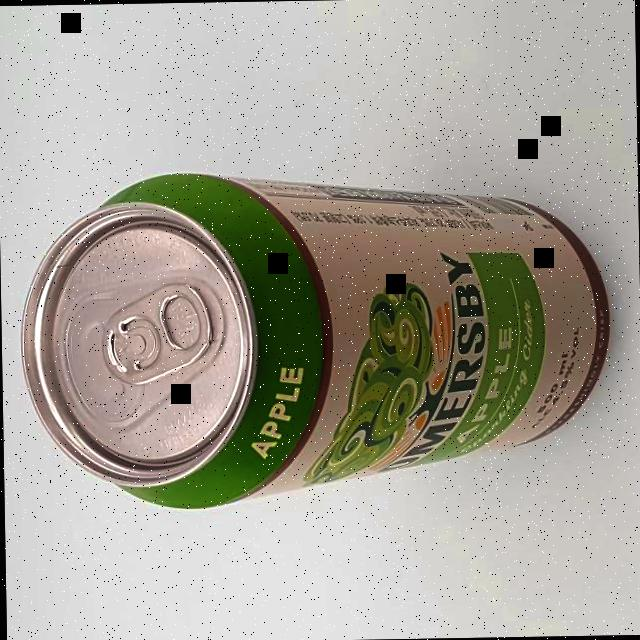can: (16, 165, 612, 510)
